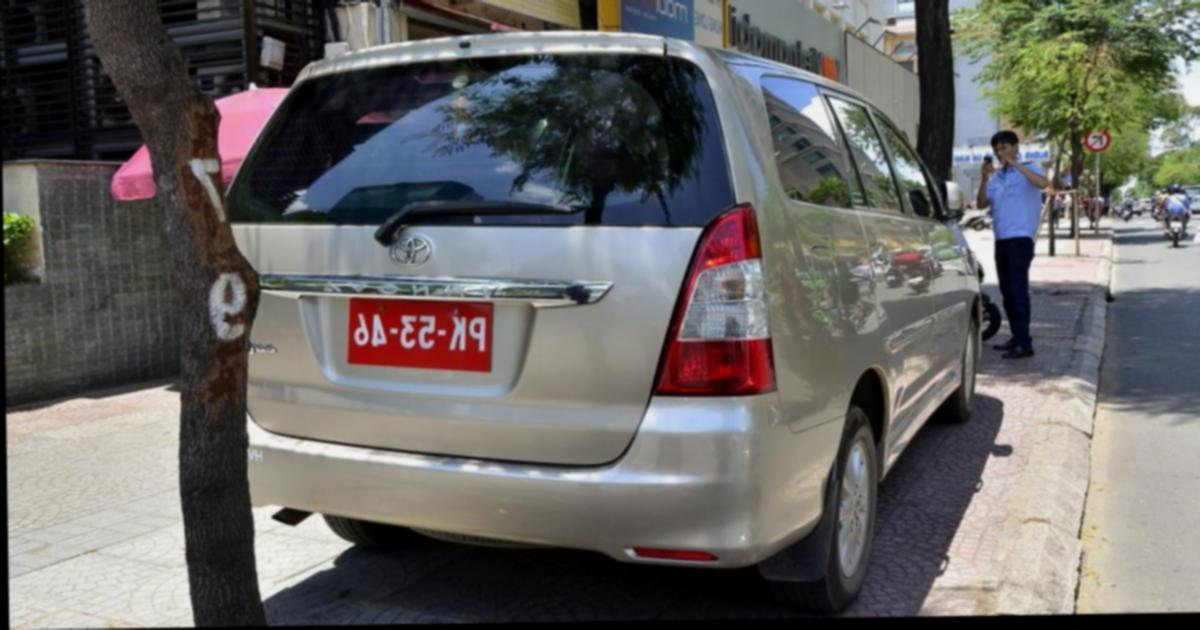License_Plate: (346, 294, 494, 371)
